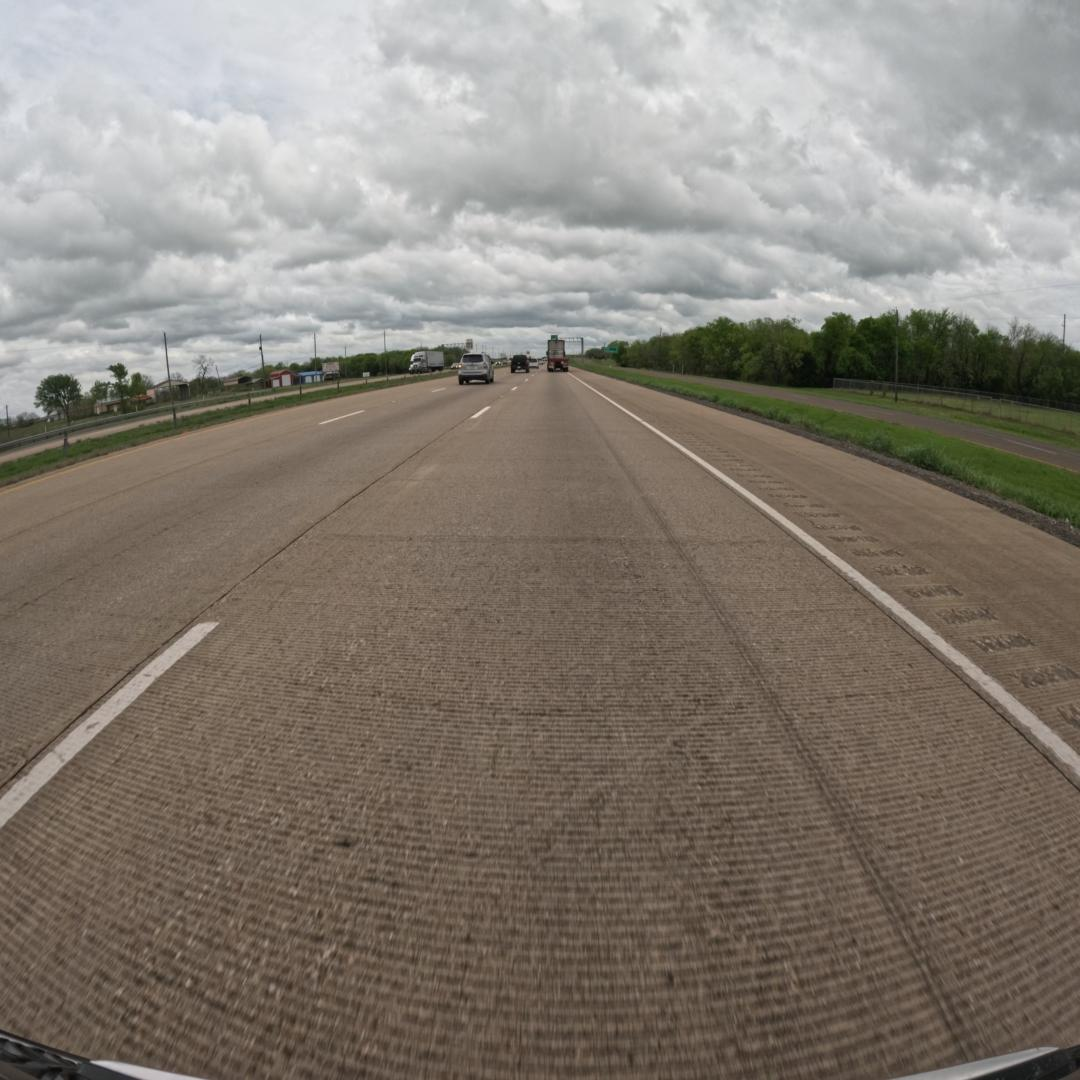lane0: (0, 376, 1080, 1077)
lane1: (0, 383, 508, 788)
